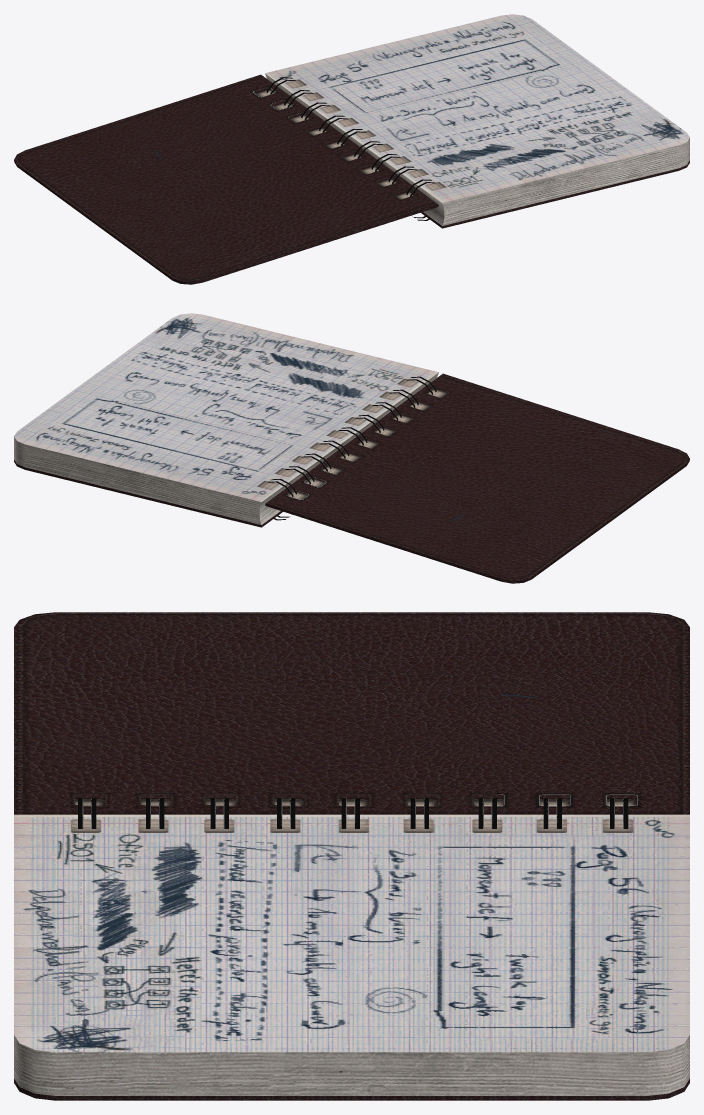
File: book_notebook_erins_open.dae
3 renders of one model, top to bottom at view 1: azimuth 30°, elevation 25°; view 2: azimuth 150°, elevation 25°; view 3: azimuth 270°, elevation 25°, orthographic. The views are drawn at different scales.
Visible parts, largest first — view 1: polySurface56; view 2: polySurface56; view 3: polySurface56.
Part boxes in pixels (bbox=[...]): polySurface56: bbox=[14, 14, 689, 284]; polySurface56: bbox=[14, 313, 689, 583]; polySurface56: bbox=[14, 612, 689, 1100].
Size of the model in its own units: 0.4141 by 0.0292 by 0.2473.
